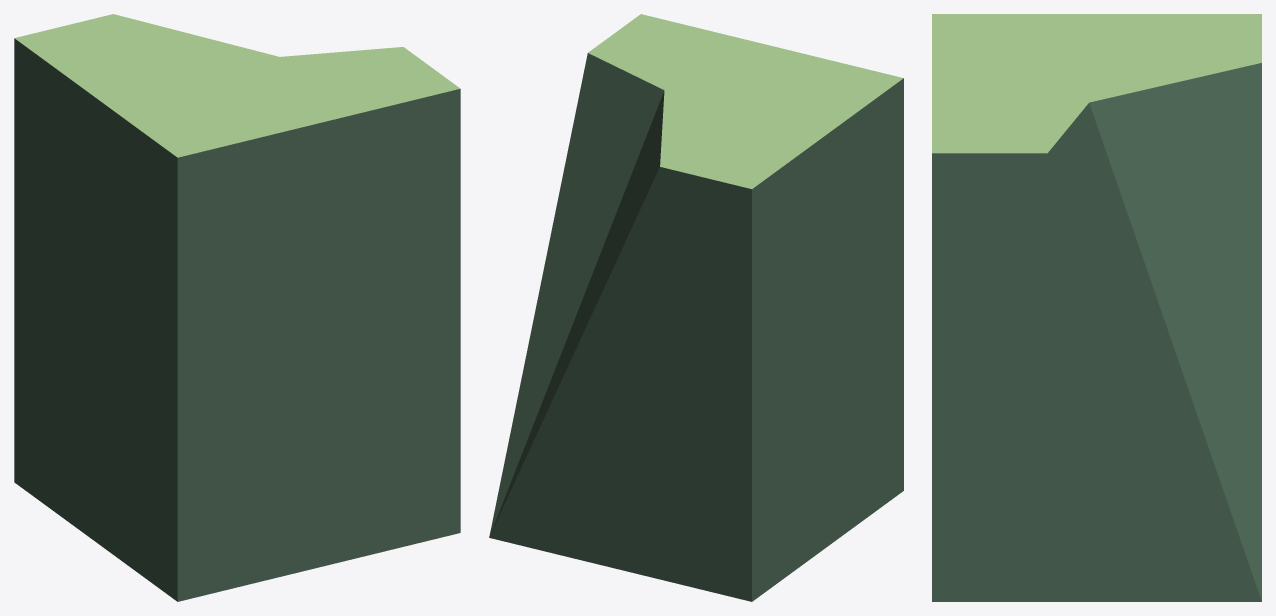
The model's file is GroundInnerCorner.fbx.
3 renders of one model, left to right at view 1: azimuth 30°, elevation 25°; view 2: azimuth 150°, elevation 25°; view 3: azimuth 270°, elevation 25°, orthographic. The views are drawn at different scales.
Parts seen in each view (by area): view 1: Cube.006; view 2: Cube.006; view 3: Cube.006.
Part boxes in pixels (left/top/right/bottom): Cube.006: left=14, top=14, right=460, bottom=601; Cube.006: left=489, top=14, right=903, bottom=601; Cube.006: left=932, top=14, right=1261, bottom=601.
Size of the model in its own units: 100 by 150 by 100.
